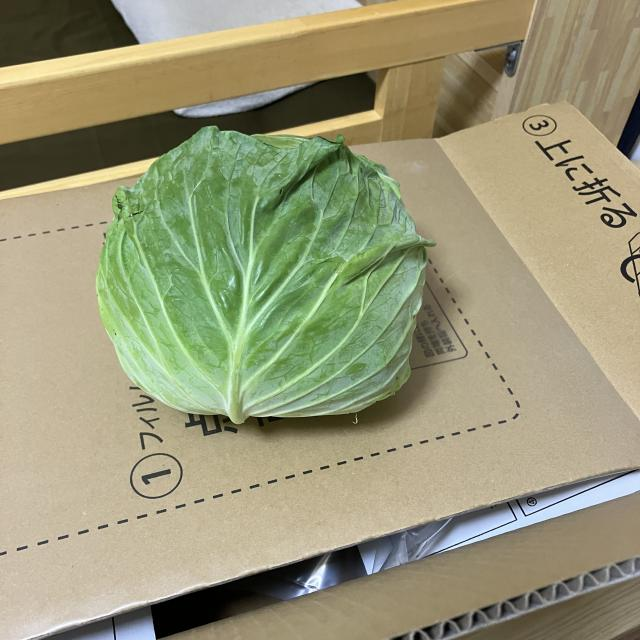cabbage: (91, 120, 438, 430)
